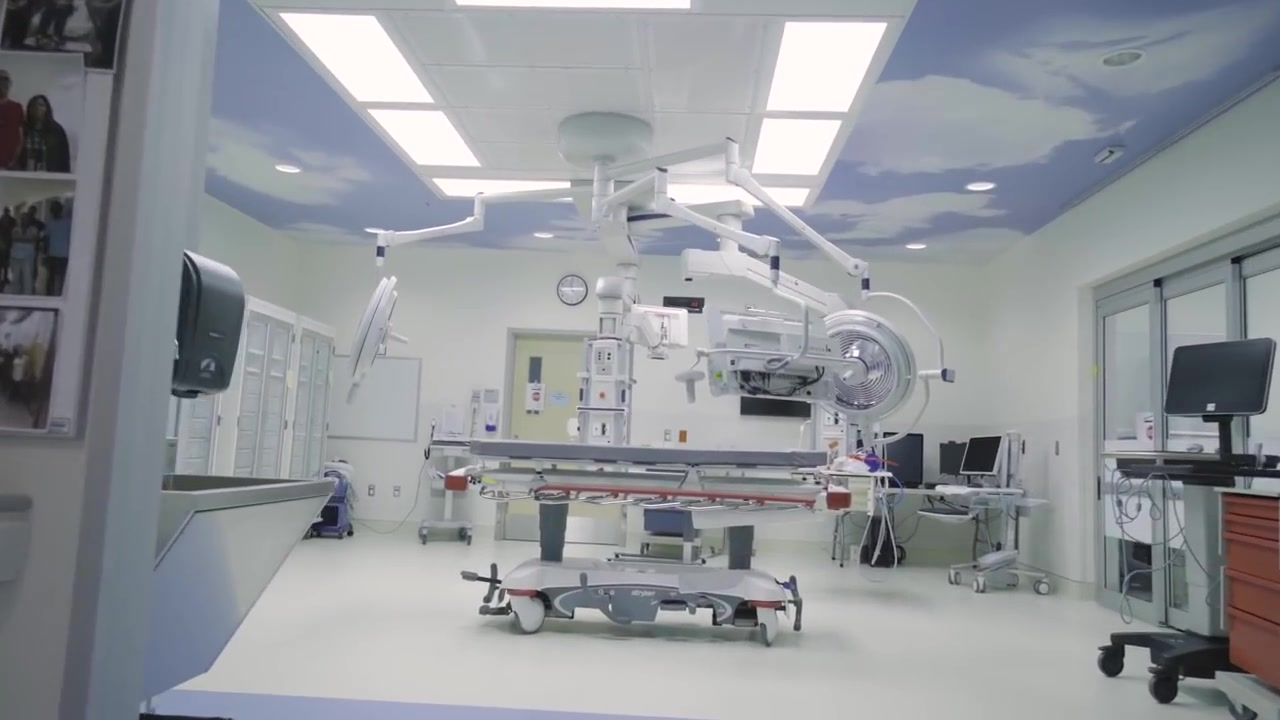bedside_monitor: (878, 433, 922, 483), (941, 442, 964, 473)
cabinet: (194, 299, 328, 519)
computer: (1155, 337, 1280, 432), (959, 435, 1004, 478)
countertop: (883, 487, 939, 495)
dispenser: (174, 244, 248, 401), (483, 405, 499, 433)
keyboard: (919, 507, 969, 515)
medical_drawer: (1218, 491, 1280, 695)
mouse: (963, 481, 986, 488)
operating_bed: (422, 432, 880, 648)
surgical_light: (805, 303, 939, 430), (344, 270, 409, 412)
utility_cart: (421, 443, 468, 545)
